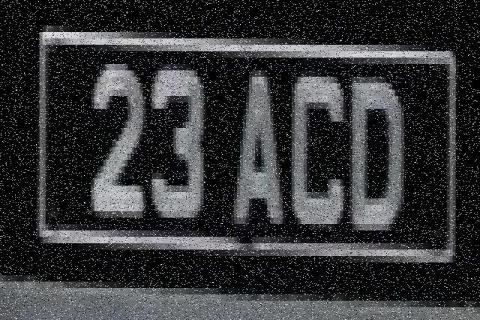LicensePlate: (21, 16, 461, 304)
